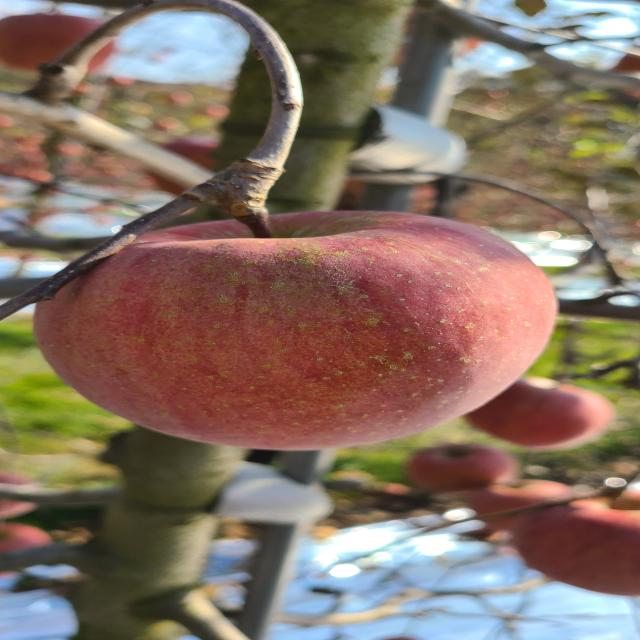fresh: (26, 203, 583, 459)
